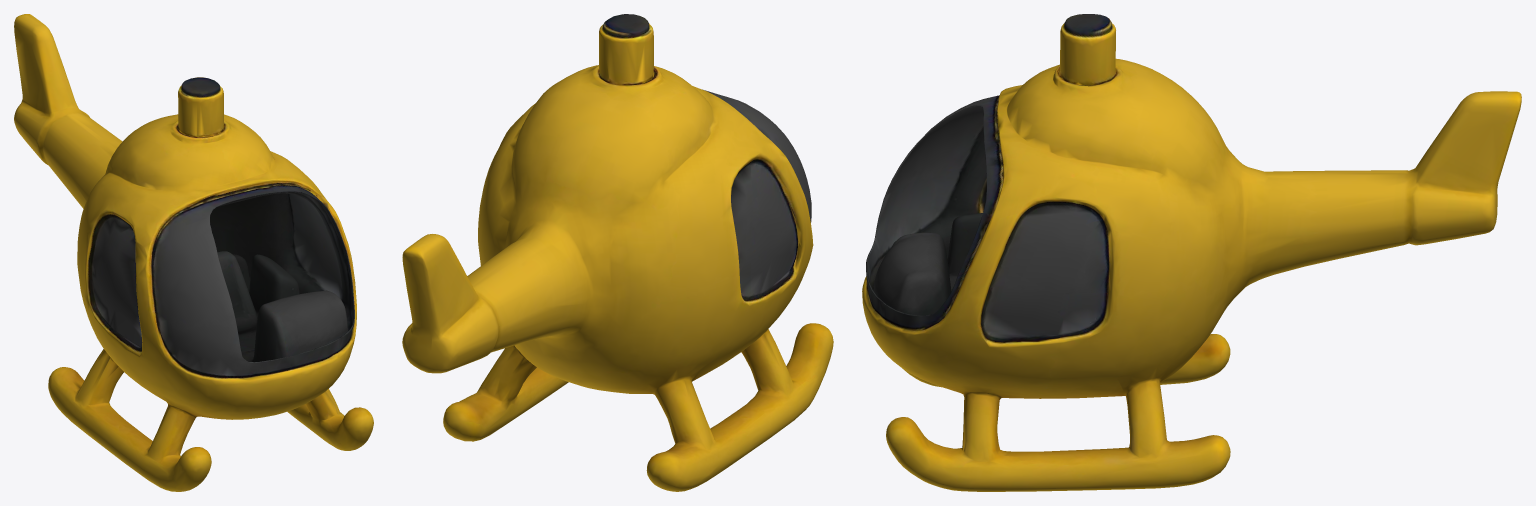
Rendered from helicopter.glb.
The picture shows the model from 3 angles, left to right: view 1: azimuth 30°, elevation 25°; view 2: azimuth 150°, elevation 25°; view 3: azimuth 270°, elevation 25°; orthographic projection. The views are drawn at different scales.
Parts seen in each view (by area): view 1: tripo_node_102a4dfe-985c-4f7a-aa51-8c62a7c68e82; view 2: tripo_node_102a4dfe-985c-4f7a-aa51-8c62a7c68e82; view 3: tripo_node_102a4dfe-985c-4f7a-aa51-8c62a7c68e82.
Part boxes in pixels (left/top/right/bottom): tripo_node_102a4dfe-985c-4f7a-aa51-8c62a7c68e82: left=14, top=14, right=373, bottom=491; tripo_node_102a4dfe-985c-4f7a-aa51-8c62a7c68e82: left=402, top=14, right=833, bottom=491; tripo_node_102a4dfe-985c-4f7a-aa51-8c62a7c68e82: left=862, top=14, right=1521, bottom=491.
Size of the model in its own units: 0.4451 by 0.6966 by 1.
Materials: 1 (1 with a texture image).
